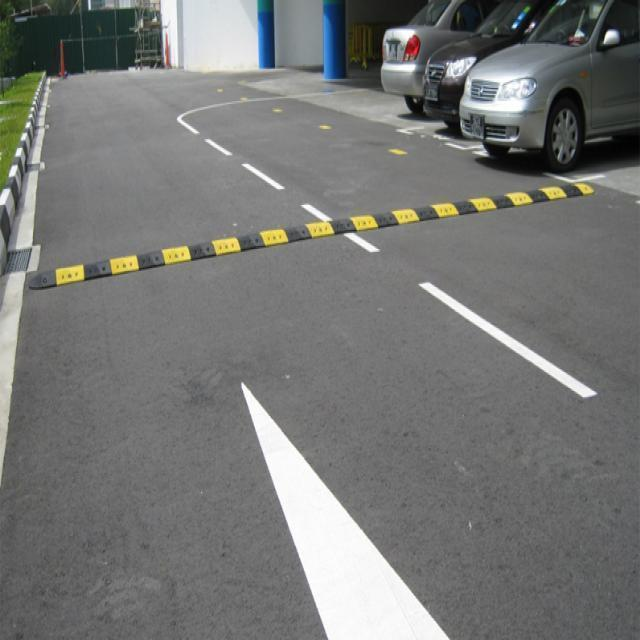speedbreaker: (28, 174, 592, 292)
